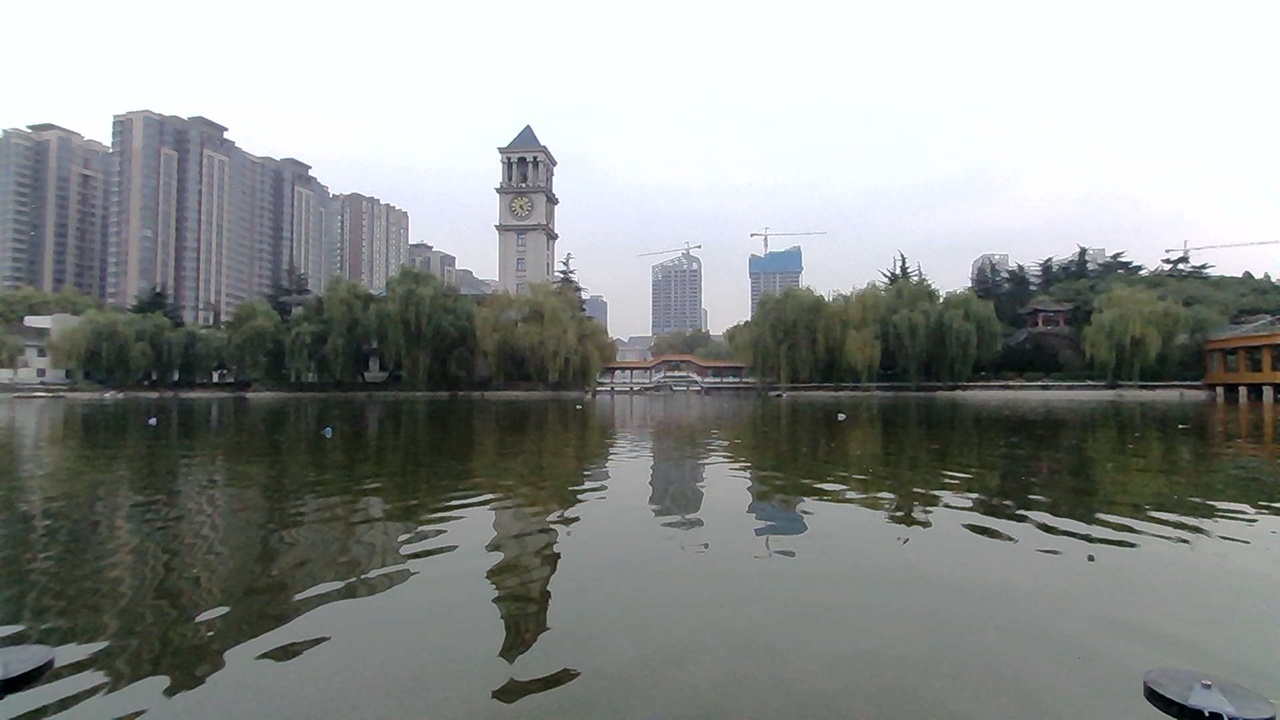bottle: (823, 404, 861, 425), (311, 421, 345, 443), (141, 404, 162, 432)
